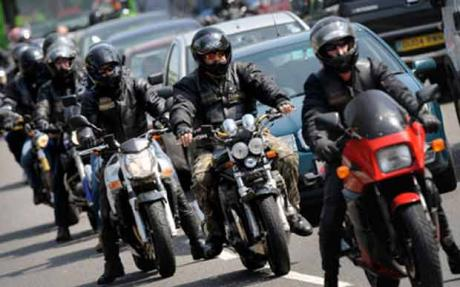helmet: (309, 17, 358, 66), (189, 26, 233, 65), (88, 45, 120, 80), (46, 42, 77, 74)
